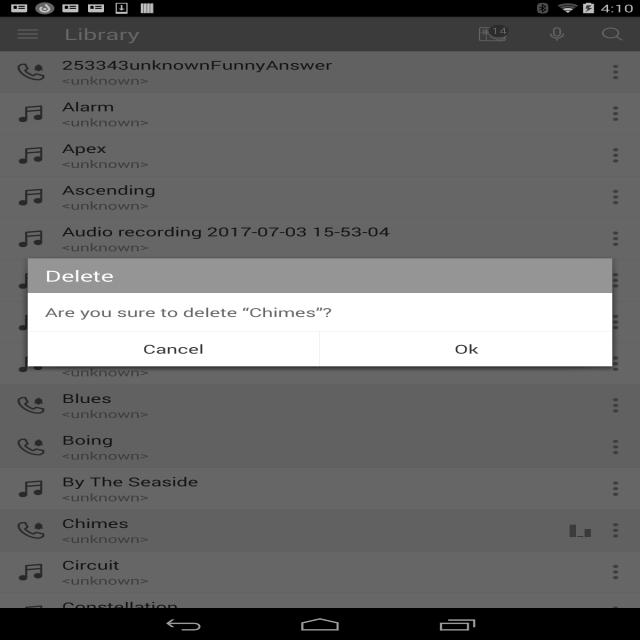ImageButton: (471, 23, 516, 44), (595, 25, 630, 46), (8, 27, 42, 42), (606, 395, 628, 416), (608, 435, 626, 458), (547, 26, 569, 44), (605, 104, 626, 122)
ImageView: (12, 477, 55, 501), (16, 559, 52, 587), (12, 144, 53, 166), (16, 518, 51, 542), (12, 395, 50, 417), (16, 187, 49, 206), (18, 102, 47, 123)
TextView: (62, 57, 352, 75), (44, 306, 354, 322), (60, 474, 201, 505), (57, 184, 166, 216), (61, 560, 167, 590), (61, 101, 158, 129), (34, 268, 135, 290), (125, 337, 214, 356), (59, 26, 144, 45), (444, 340, 499, 360)
